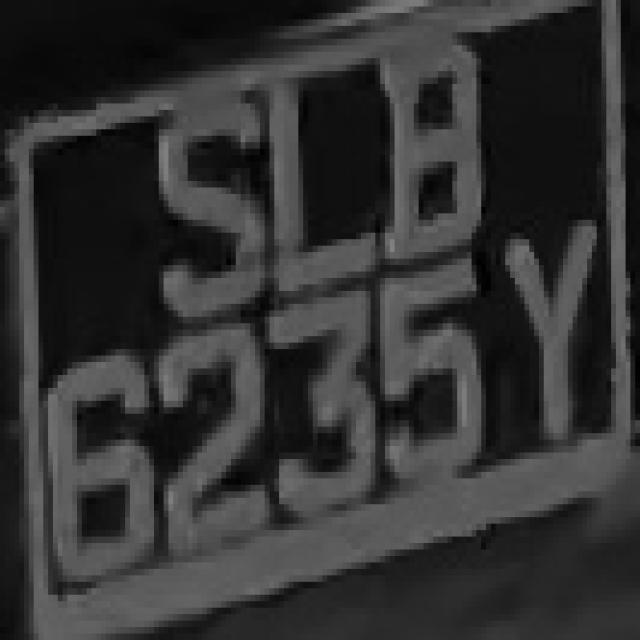2: (120, 304, 279, 582)
3: (255, 252, 390, 517)
5: (351, 246, 481, 485)
6: (34, 330, 158, 588)
B: (361, 26, 496, 271)
L: (246, 58, 376, 310)
S: (111, 91, 260, 336)
Y: (486, 181, 597, 472)
